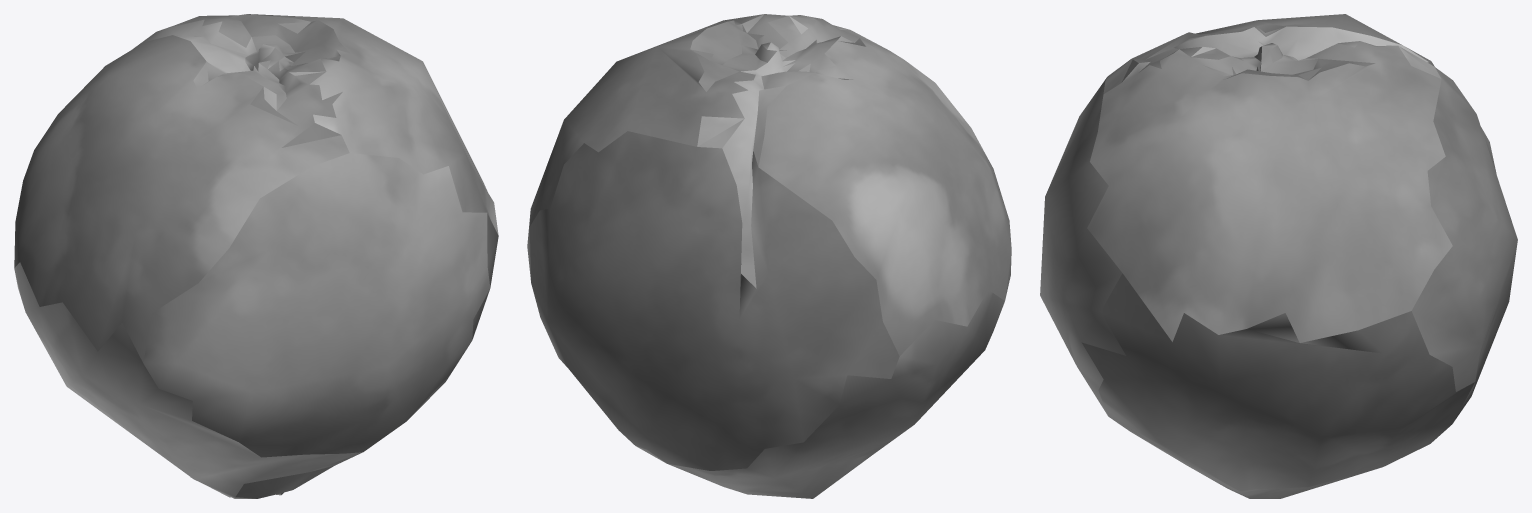
Rendered from SM_Lemon_01b.fbx.
3 renders of one model, left to right at view 1: azimuth 30°, elevation 25°; view 2: azimuth 150°, elevation 25°; view 3: azimuth 270°, elevation 25°, orthographic. The views are drawn at different scales.
Visible parts, largest first — view 1: SM_Lemon_01b_LOD0; view 2: SM_Lemon_01b_LOD0; view 3: SM_Lemon_01b_LOD0.
Boxes of the visible parts, x1=… form: SM_Lemon_01b_LOD0: x1=14, y1=14, x2=498, y2=498; SM_Lemon_01b_LOD0: x1=527, y1=14, x2=1011, y2=498; SM_Lemon_01b_LOD0: x1=1040, y1=14, x2=1517, y2=498.
Bounding box in the file's own units: 10.88 × 10.38 × 10.89.
